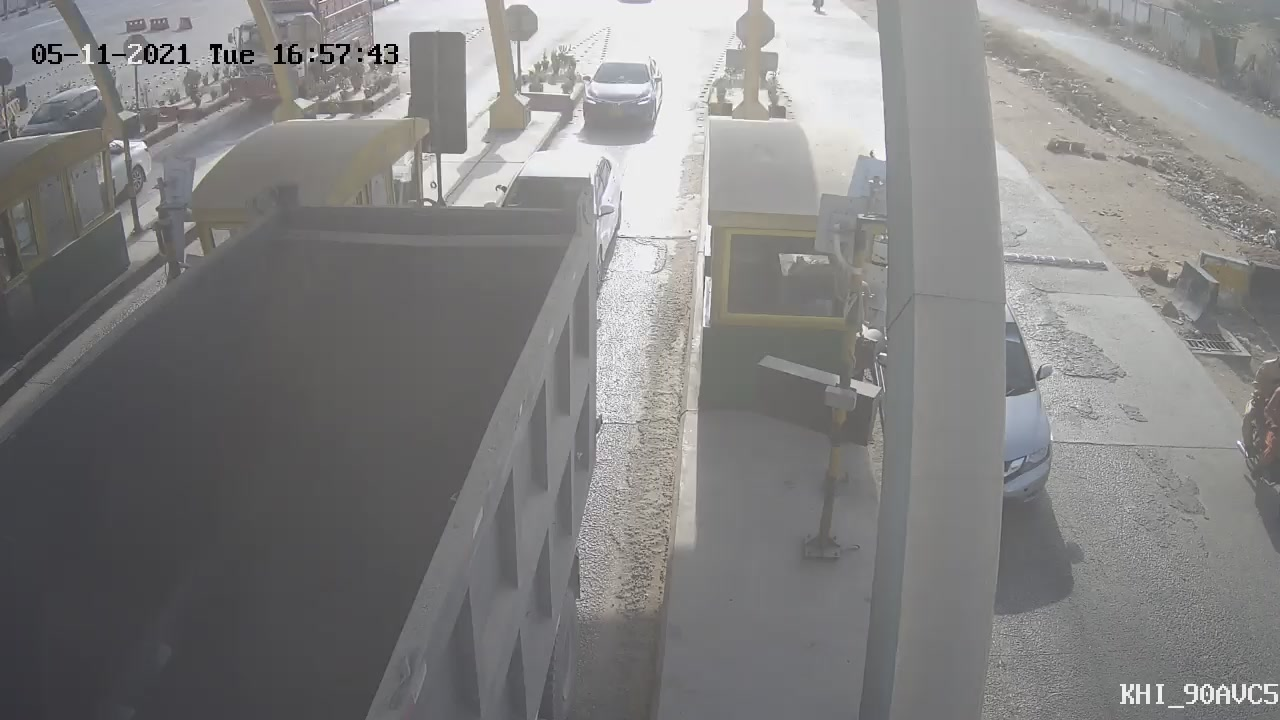F1: (560, 44, 676, 147)
